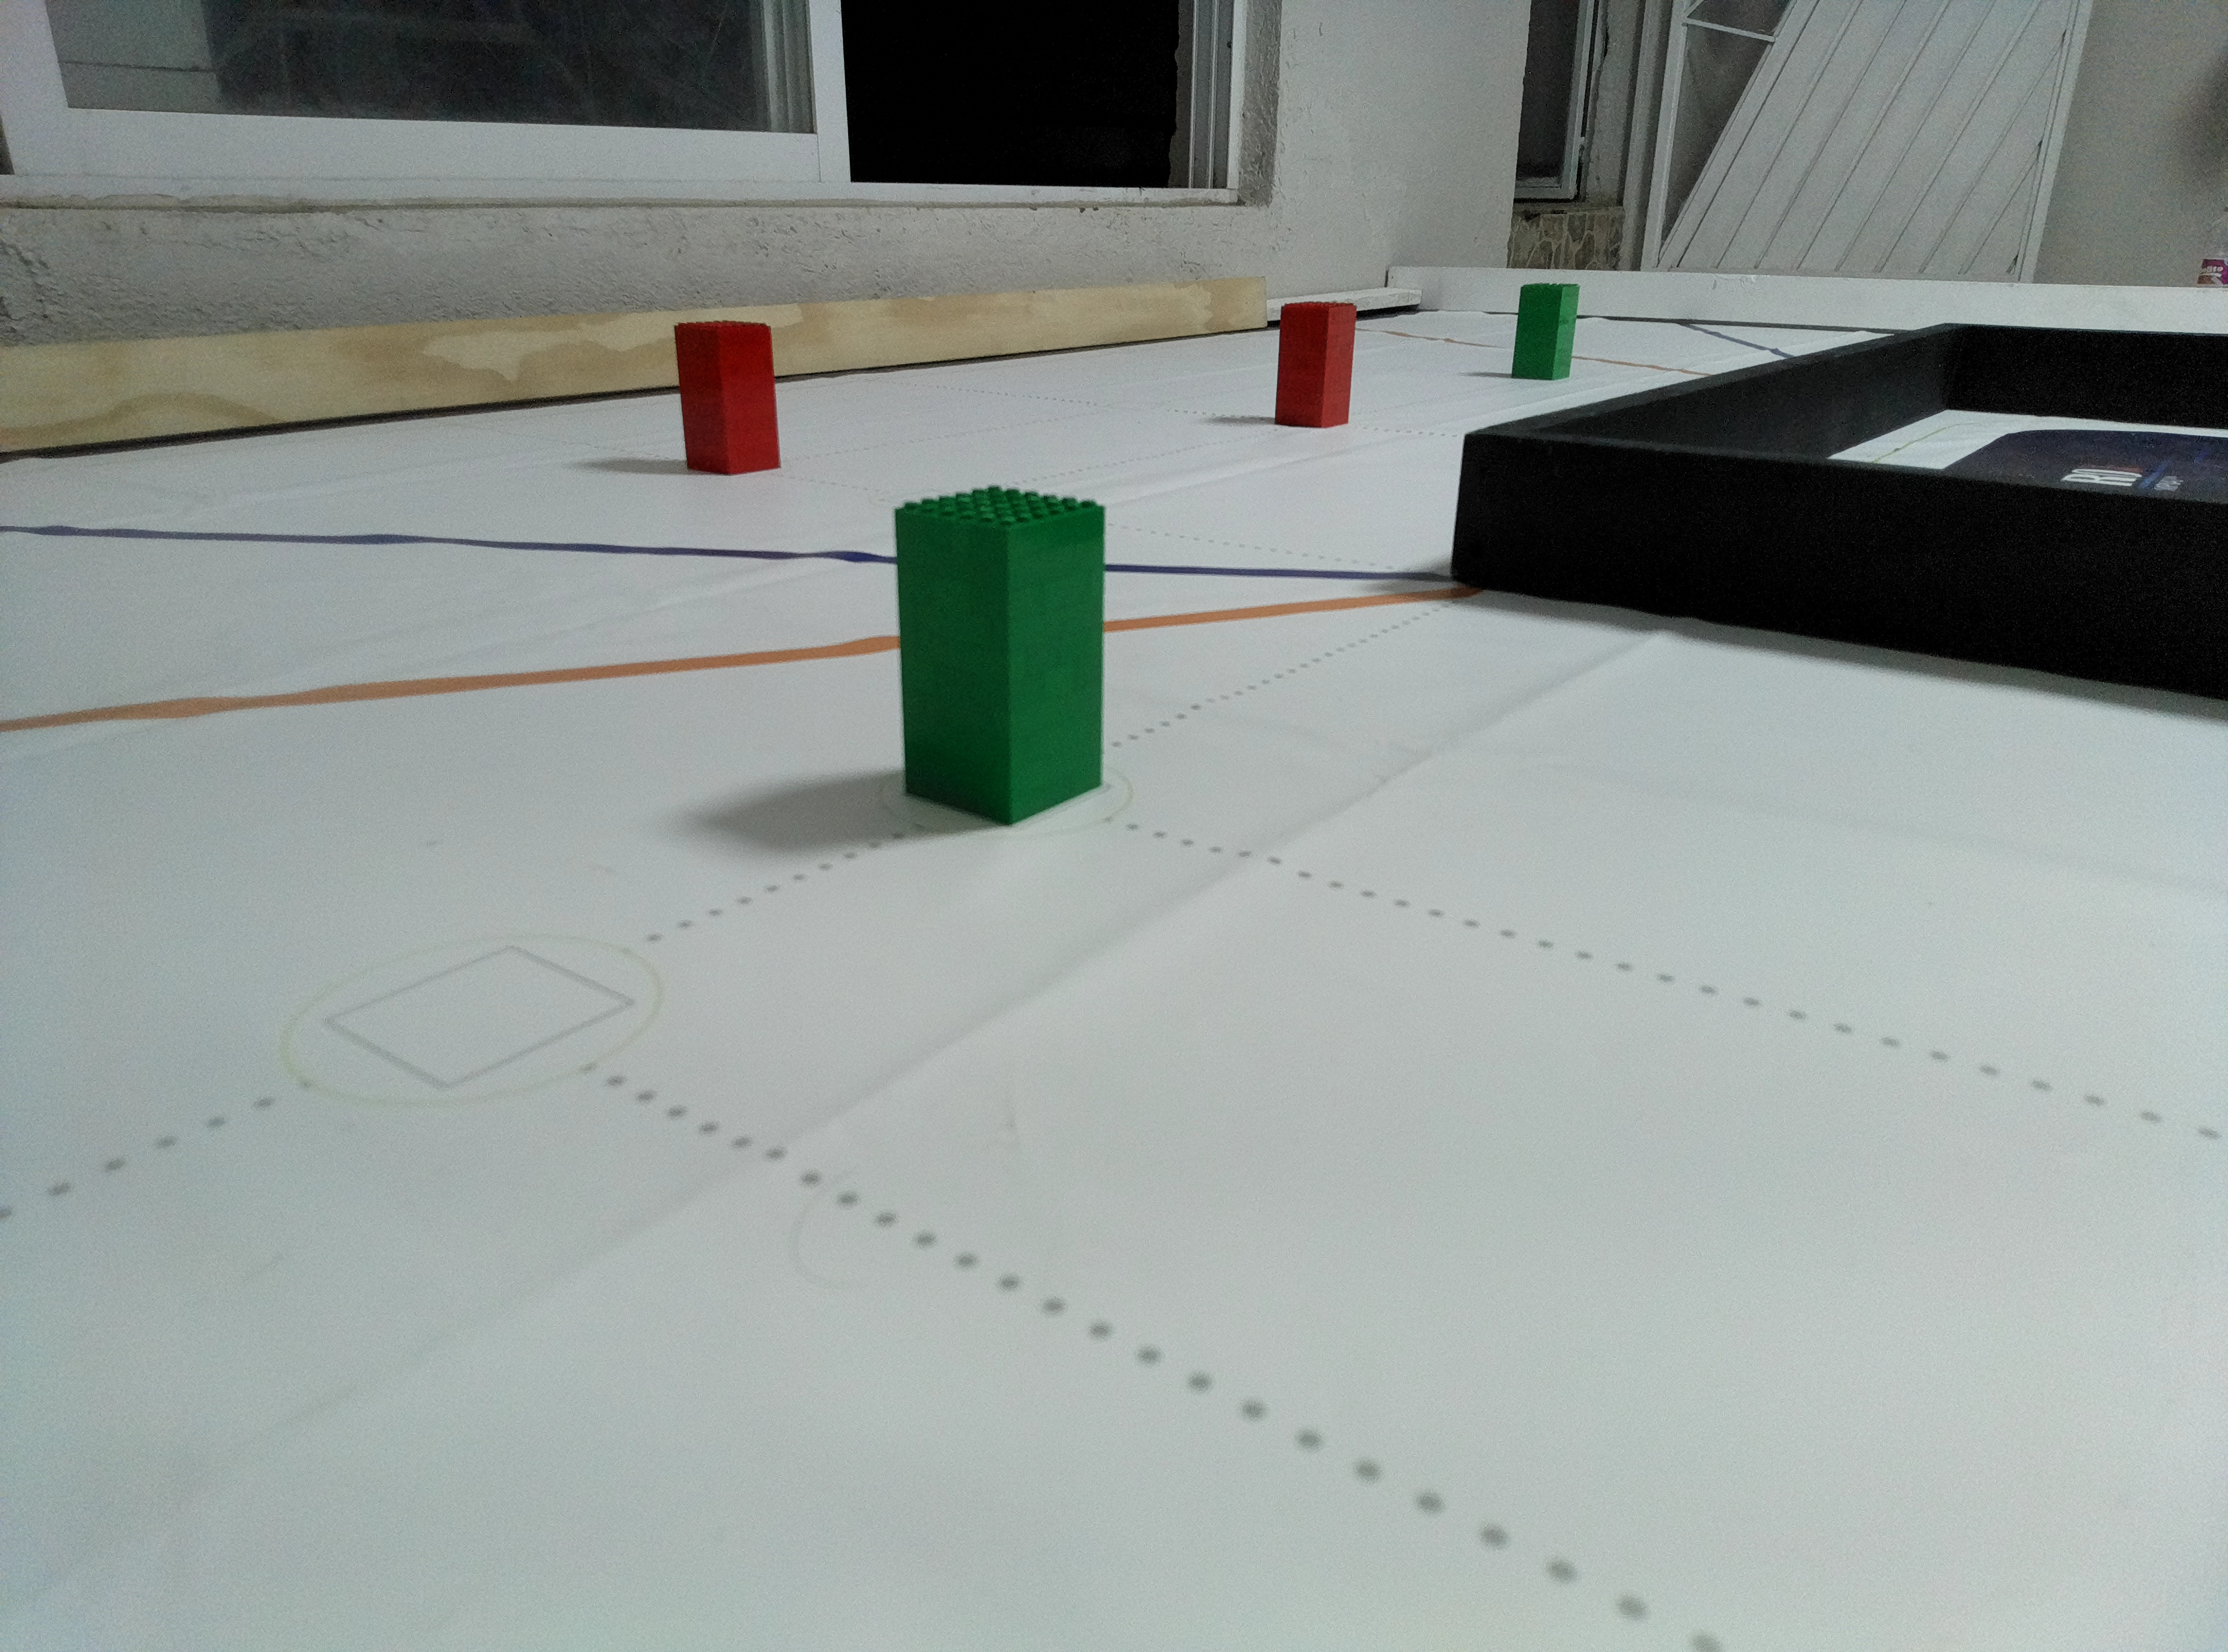greenbox: (894, 481, 1105, 828), (1510, 281, 1581, 380)
redbox: (673, 319, 781, 475), (1272, 300, 1359, 427)
